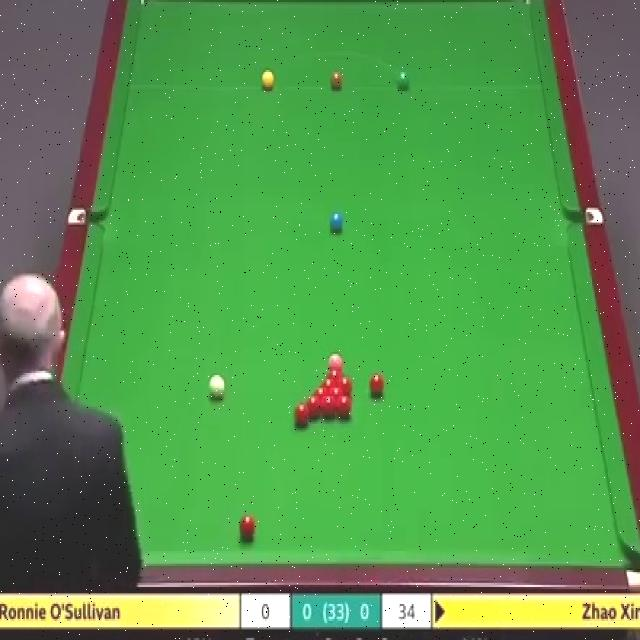blue-ball: (328, 210, 343, 234)
brown-ball: (330, 68, 343, 91)
green-ball: (396, 72, 410, 93)
pink-ball: (329, 353, 344, 376)
red-ball: (369, 372, 386, 400), (240, 515, 256, 541), (293, 403, 308, 430), (307, 395, 322, 419), (321, 396, 336, 419), (337, 376, 352, 397), (337, 396, 350, 417), (315, 386, 328, 402), (322, 377, 337, 388), (329, 388, 344, 397)
white-ball: (207, 370, 227, 403)
yellow-ball: (261, 70, 274, 92)
